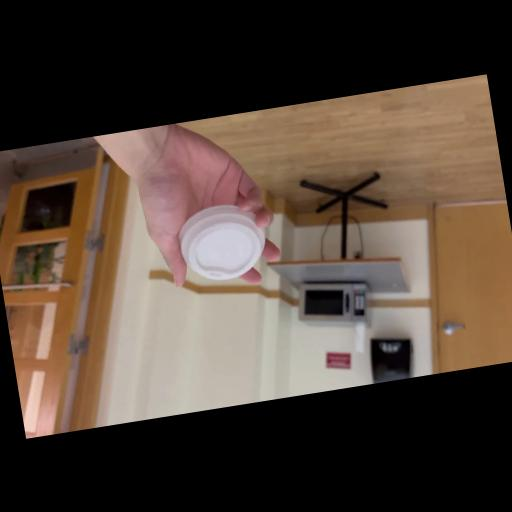lp_cup_lids: (173, 198, 272, 286)
